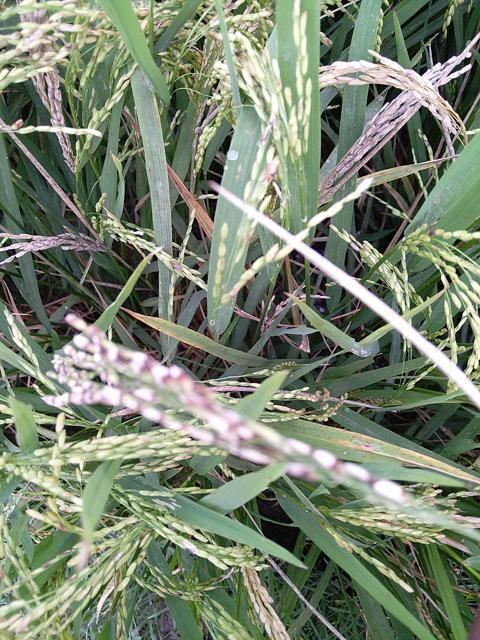Panicle Blight: (41, 314, 406, 505), (46, 511, 80, 534), (152, 455, 192, 473), (262, 164, 277, 190), (259, 119, 274, 145), (78, 29, 102, 45), (243, 222, 257, 247), (54, 21, 83, 33), (204, 26, 221, 44), (225, 284, 243, 299), (64, 38, 75, 56), (40, 561, 58, 571), (136, 549, 147, 565), (444, 327, 454, 339), (15, 119, 22, 127), (95, 548, 101, 554)
